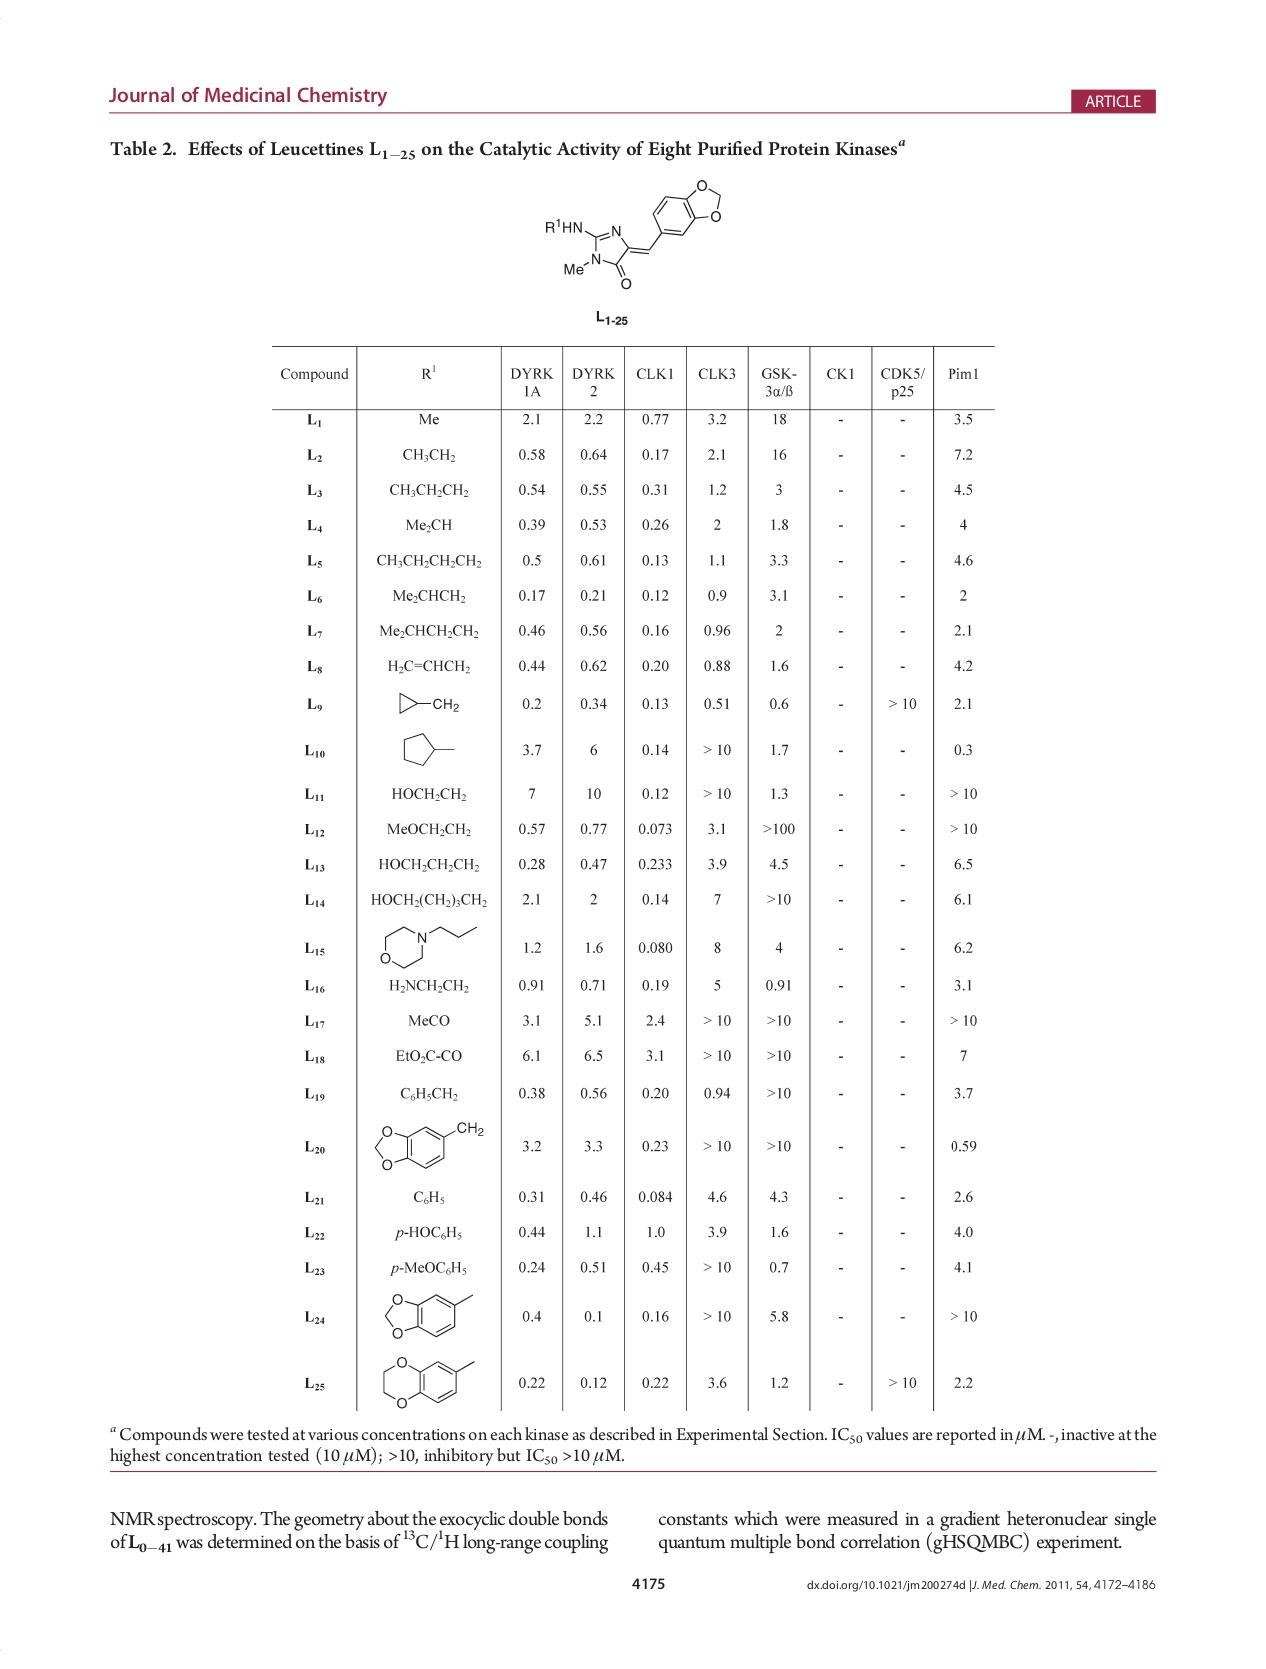exist_molecular: (543, 177, 723, 290), (371, 1114, 487, 1173), (376, 1352, 477, 1414), (375, 919, 481, 973), (382, 1285, 473, 1341), (400, 726, 459, 774), (390, 688, 465, 719)
